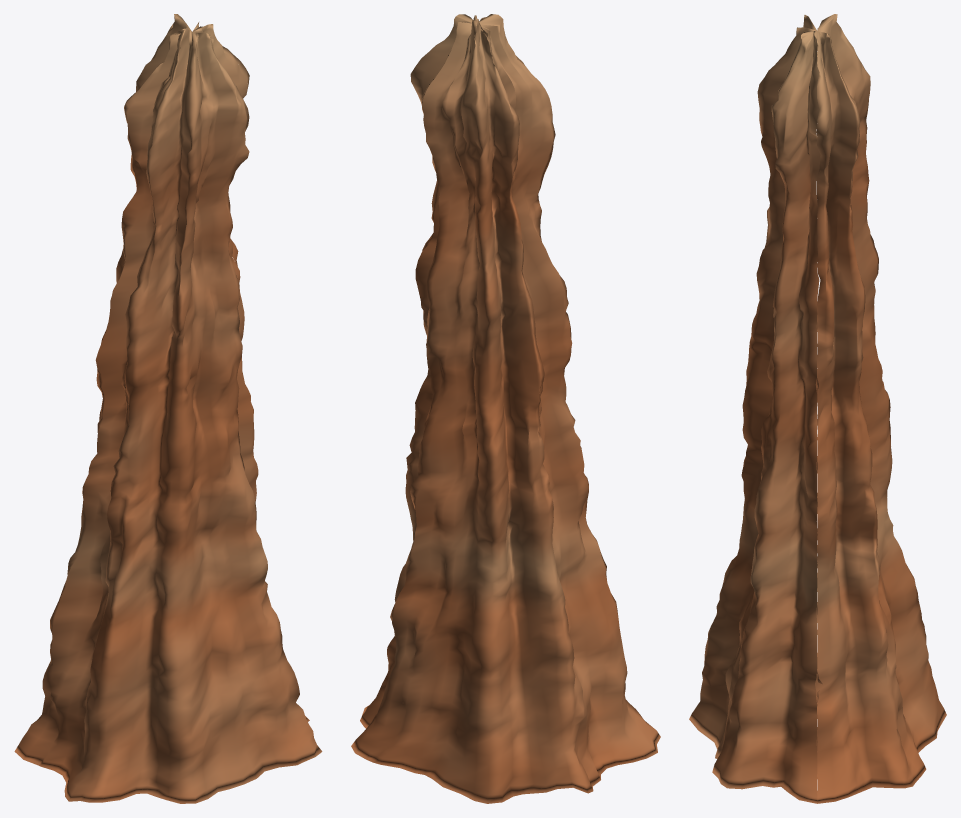
The model's file is hoodoo-spire.glb.
The picture shows the model from 3 angles, left to right: view 1: azimuth 30°, elevation 25°; view 2: azimuth 150°, elevation 25°; view 3: azimuth 270°, elevation 25°; orthographic projection.
Parts seen in each view (by area): view 1: hoodoo-spire; view 2: hoodoo-spire; view 3: hoodoo-spire.
Boxes of the visible parts, <box> form: hoodoo-spire: <box>14,14,322,803</box>; hoodoo-spire: <box>351,14,660,803</box>; hoodoo-spire: <box>689,14,946,803</box>.
Size of the model in its own units: 13.61 by 35.92 by 11.37.
